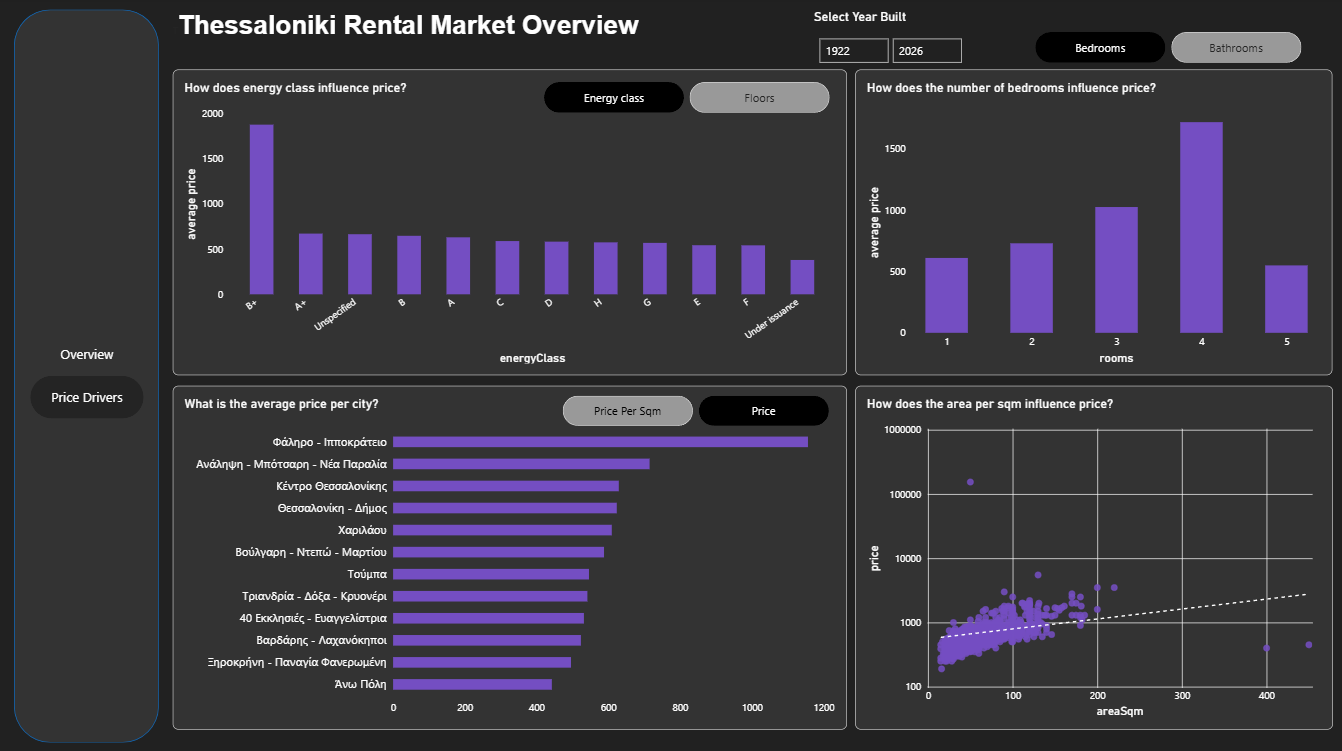

The dashboard page shown, as its layout file describes it:
{"tool":"powerbi","page":{"name":"Price Drivers","canvas":[1920,1080],"ordinal":1},"visuals":[{"type":"shape","box":[21.3,17.1,206.9,1047.5],"z":0},{"type":"textbox","box":[248.9,17.3,727.2,64.9],"z":1000},{"type":"clusteredBarChart","title":"What is the average price per city?","fields":{"Category":["spitogatos.locationFloor"],"Y":["Avg(spitogatos.price)"]},"box":[248.9,556.2,963,491.3],"z":20000},{"type":"bookmarkNavigator","title":"price","box":[805.1,569.2,380.9,43.3],"z":22000},{"type":"clusteredColumnChart","title":"How does energy class influence price?","fields":{"Category":["spitogatos.energyClass"],"Y":["Avg(spitogatos.price)"]},"box":[248.9,103.9,963,437.2],"z":23000},{"type":"clusteredColumnChart","title":"How does the number of bedrooms influence price?","fields":{"Category":["spitogatos.rooms"],"Y":["Avg(spitogatos.price)"]},"box":[1222.7,103.9,681.7,437.2],"z":25000},{"type":"bookmarkNavigator","box":[1480,50,380,44],"z":26001},{"type":"bookmarkNavigator","box":[778,122,408,44],"z":26002},{"type":"scatterChart","title":"How does the area per sqm influence price?","fields":{"X":["spitogatos.areaSqm"],"Y":["spitogatos.price"]},"box":[1223,556,682,491],"z":26003},{"type":"slicer","title":"Select Year Built","fields":{"Values":["spitogatos.yearBuilt"]},"box":[1164.3,17.3,257.5,86.6],"z":26004},{"type":"pageNavigator","box":[45.4,480.4,162.3,123.4],"z":26005}]}

Visuals, with their boxes on the page's 1920x1080 design canvas (x1, y1, x2, y2). These are canvas units, not pixel positions in the 1342x751 screenshot, which may show the page scaled, cropped or inside an application window:
shape: <box>21,17,228,1065</box>
textbox: <box>249,17,976,82</box>
"What is the average price per city?" clusteredBarChart: <box>249,556,1212,1048</box>
"price" bookmarkNavigator: <box>805,569,1186,612</box>
"How does energy class influence price?" clusteredColumnChart: <box>249,104,1212,541</box>
"How does the number of bedrooms influence price?" clusteredColumnChart: <box>1223,104,1904,541</box>
bookmarkNavigator: <box>1480,50,1860,94</box>
bookmarkNavigator: <box>778,122,1186,166</box>
"How does the area per sqm influence price?" scatterChart: <box>1223,556,1905,1047</box>
"Select Year Built" slicer: <box>1164,17,1422,104</box>
pageNavigator: <box>45,480,208,604</box>
